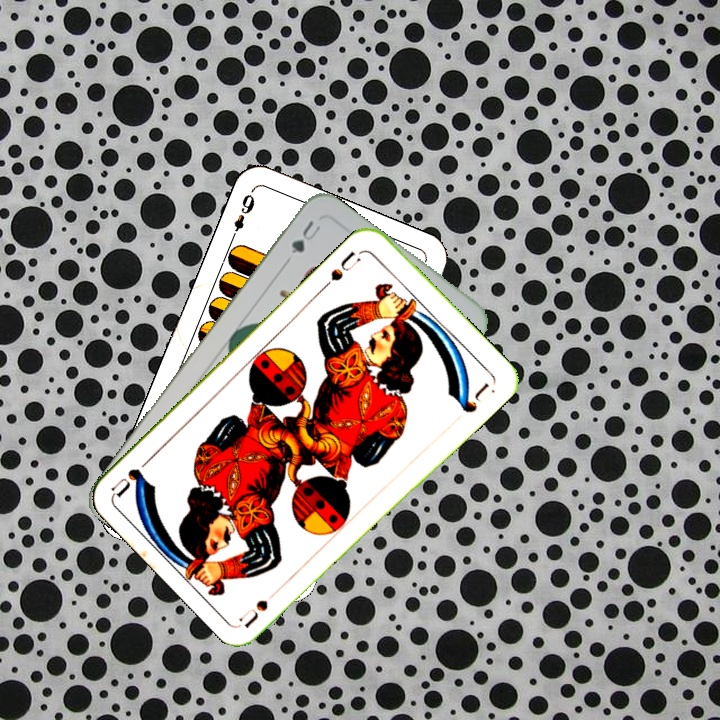E9: (226, 187, 258, 244)
GU: (287, 216, 324, 258)
SU: (236, 581, 286, 629), (319, 246, 366, 292)
